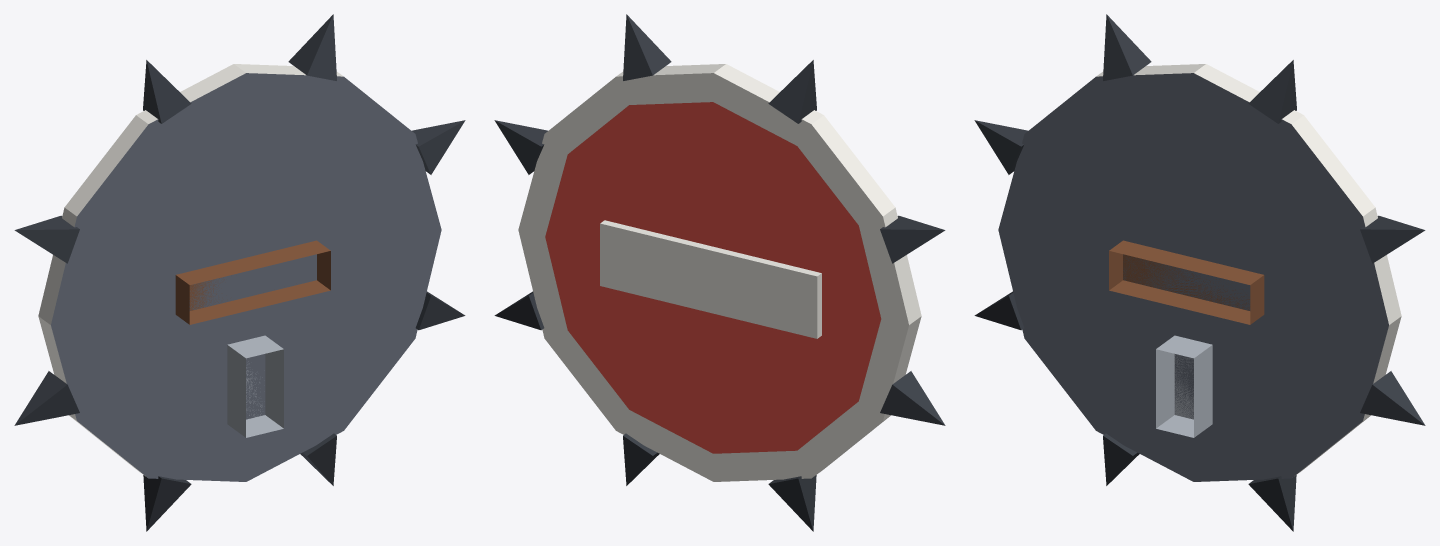
File: FX_Shield2_Sign.fbx
The picture shows the model from 3 angles, left to right: view 1: azimuth 30°, elevation 25°; view 2: azimuth 150°, elevation 25°; view 3: azimuth 330°, elevation 25°; orthographic projection.
Visible parts, largest first — view 1: FX_Shield2_Sign; view 2: FX_Shield2_Sign; view 3: FX_Shield2_Sign.
Boxes of the visible parts, x1,y1,x2,y2 form: FX_Shield2_Sign: (14, 14, 465, 531); FX_Shield2_Sign: (494, 14, 945, 531); FX_Shield2_Sign: (974, 14, 1425, 531).
Size of the model in its own units: 0.8315 by 0.8315 by 0.116.
